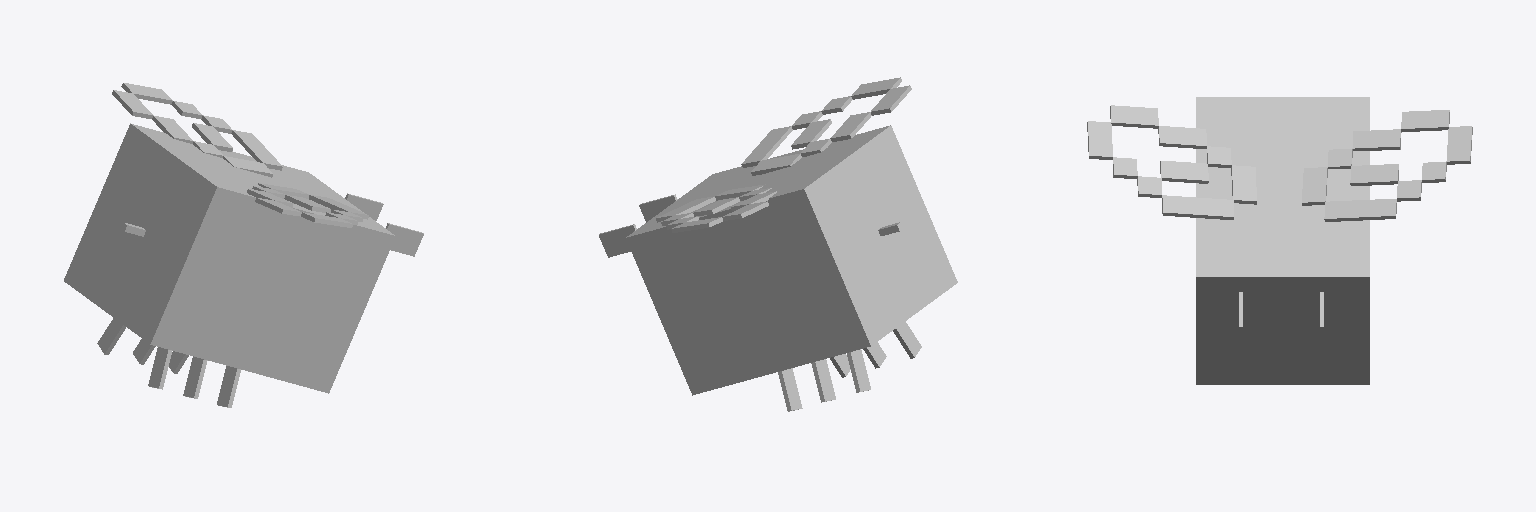
The model's file is Bee_ (20).obj.
The picture shows the model from 3 angles: view 1: azimuth 30°, elevation 25°; view 2: azimuth 150°, elevation 25°; view 3: azimuth 270°, elevation 25°; orthographic projection.
Parts seen in each view (by area): view 1: b_Bee_MAT_0, r_Bee_MAT_0, l_Bee_MAT_0; view 2: b_Bee_MAT_0, l_Bee_MAT_0, r_Bee_MAT_0; view 3: b_Bee_MAT_0, l_Bee_MAT_0, r_Bee_MAT_0.
Boxes of the visible parts, box(x1,y1,x2,y2) form: b_Bee_MAT_0: box(64, 123, 423, 407); r_Bee_MAT_0: box(112, 83, 282, 177); l_Bee_MAT_0: box(247, 183, 368, 227); b_Bee_MAT_0: box(599, 125, 957, 411); l_Bee_MAT_0: box(741, 77, 911, 175); r_Bee_MAT_0: box(656, 184, 776, 232); b_Bee_MAT_0: box(1196, 97, 1369, 384); l_Bee_MAT_0: box(1087, 105, 1256, 219); r_Bee_MAT_0: box(1302, 110, 1472, 221).
Bounding box in the file's own units: 0.3082 × 0.2445 × 0.3482.